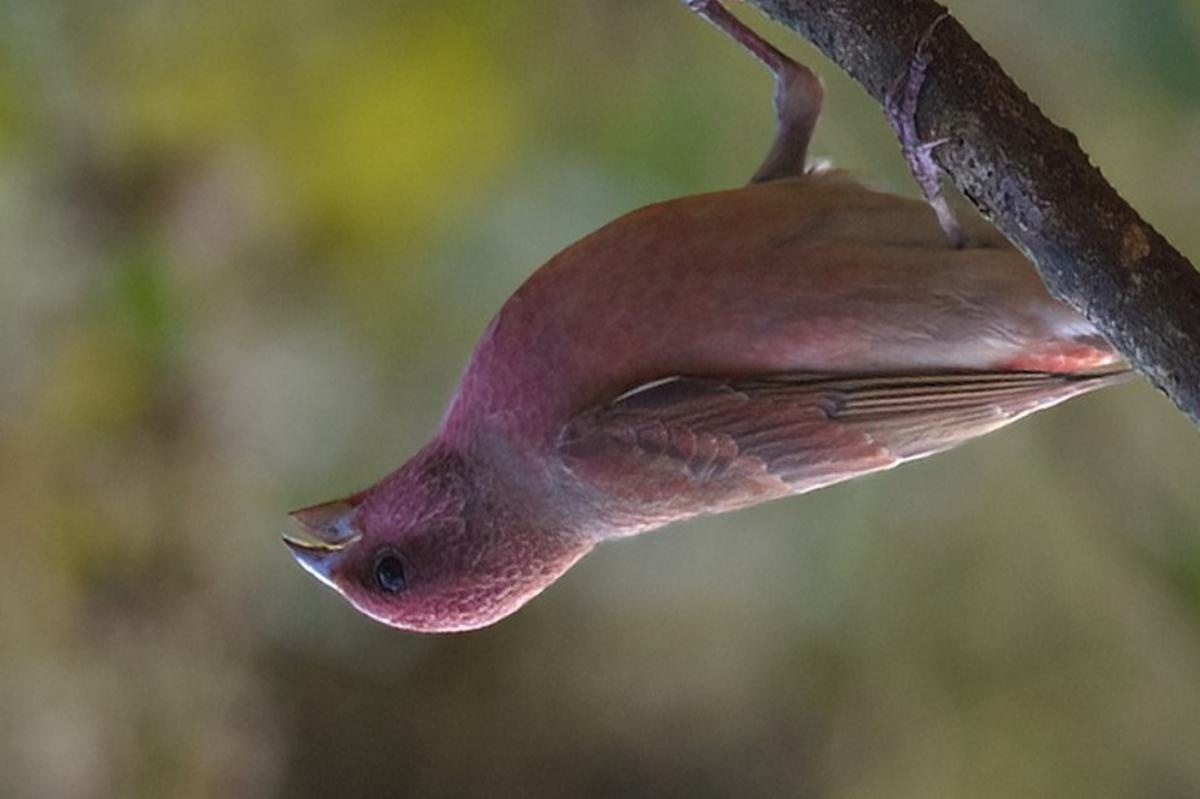rosefinch: (265, 109, 1097, 640)
